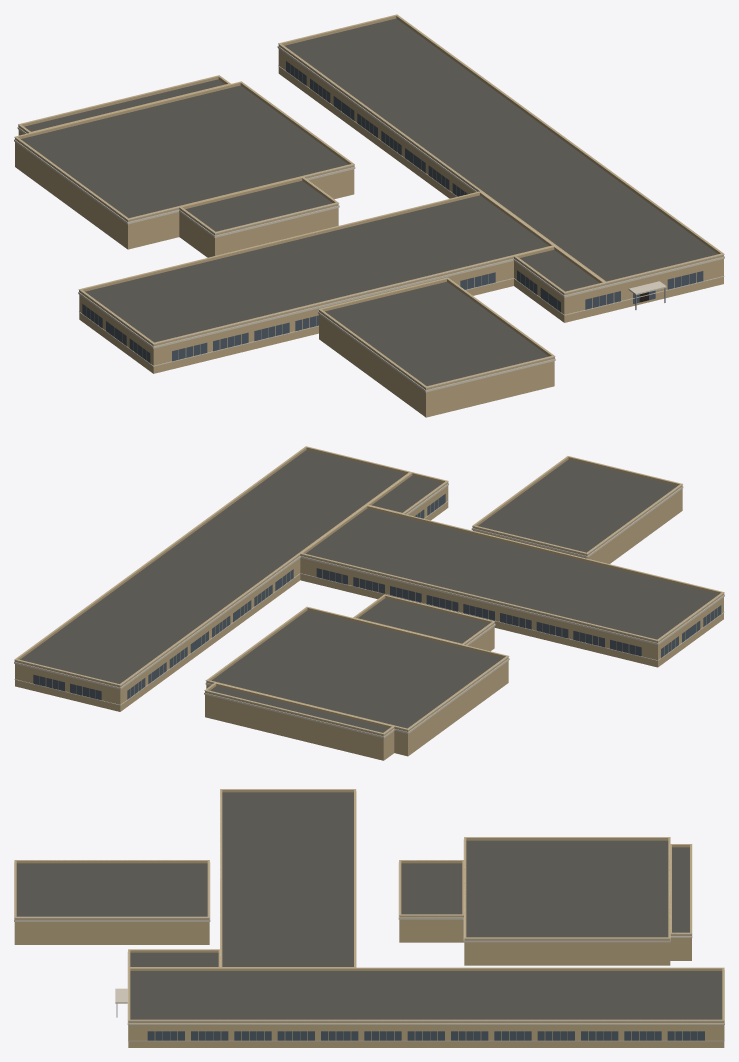
Rendered from nlr-school-by-1970.glb.
3 views of the same model, one above another, from view 1: azimuth 30°, elevation 25°; view 2: azimuth 150°, elevation 25°; view 3: azimuth 270°, elevation 25° (orthographic). The views are drawn at different scales.
Parts seen in each view (by area): view 1: nlr_school_by_1970; view 2: nlr_school_by_1970; view 3: nlr_school_by_1970.
Part boxes in pixels (x1,y1,x2,y2): nlr_school_by_1970: (14, 14, 724, 417); nlr_school_by_1970: (14, 446, 724, 760); nlr_school_by_1970: (14, 789, 724, 1047).
Bounding box in the file's own units: 101 × 5.6 × 131.
